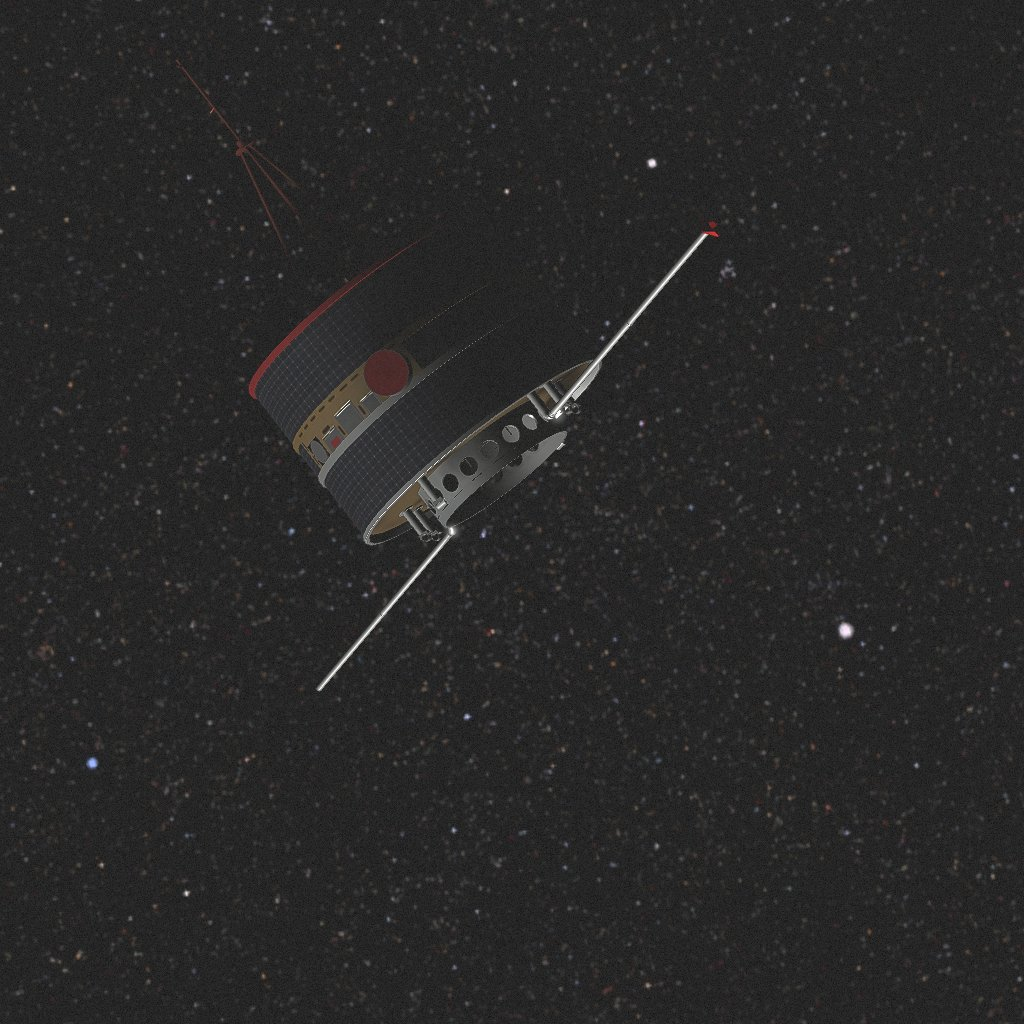double_star: (176, 58, 721, 691)
